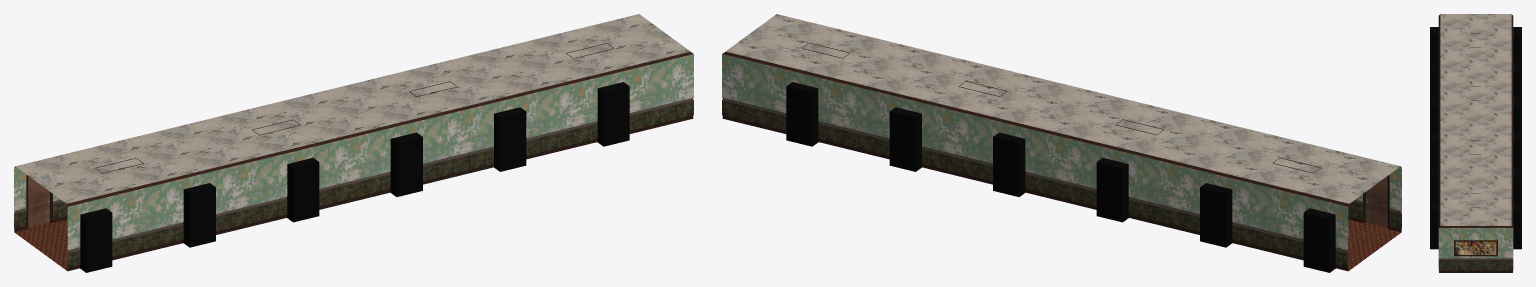
File: building_hallway.glb
3 views of the same model, side by side, from view 1: azimuth 30°, elevation 25°; view 2: azimuth 150°, elevation 25°; view 3: azimuth 270°, elevation 25° (orthographic). The views are drawn at different scales.
Parts seen in each view (by area): view 1: Material2 (×8); view 2: Material2 (×8); view 3: Material2 (×7).
Part boxes in pixels (x1,y1,x2,y2): Material2 (×8): (14,14,693,272); Material2 (×8): (722,14,1401,272); Material2 (×7): (1430,14,1521,272).
Bounding box in the file's own units: 1059 × 109 × 193.
12 materials, 9 textured.
